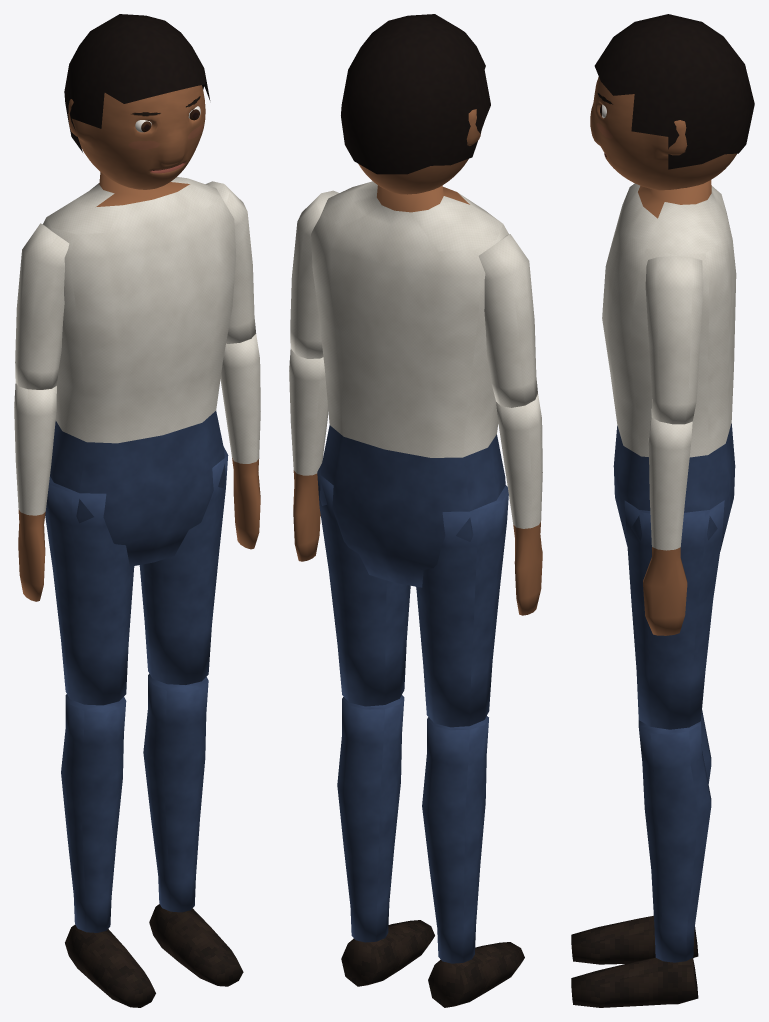
The model's file is persona_nino_a.obj.
3 renders of one model, left to right at view 1: azimuth 30°, elevation 25°; view 2: azimuth 150°, elevation 25°; view 3: azimuth 270°, elevation 25°, orthographic. The views are drawn at different scales.
Visible parts, largest first — view 1: Torso, PiernaIzq, PiernaDer, MusloDer, MusloIzq, Pelo, Cabeza, BrazoDer, AntebrazoDer, AntebrazoIzq, BrazoIzq; view 2: Torso, Pelo, PiernaDer, PiernaIzq, MusloDer, MusloIzq, BrazoDer, AntebrazoDer, AntebrazoIzq, BrazoIzq, Cabeza; view 3: Torso, PiernaIzq, Pelo, MusloIzq, BrazoIzq, AntebrazoIzq, Cabeza, PiernaDer.
Boxes of the visible parts, <box> form: Torso: <box>43,172,236,566</box>; PiernaIzq: <box>143,673,243,986</box>; PiernaDer: <box>61,694,155,1007</box>; MusloDer: <box>45,476,134,705</box>; MusloIzq: <box>139,446,228,684</box>; Pelo: <box>64,14,210,152</box>; Cabeza: <box>68,85,205,189</box>; BrazoDer: <box>15,223,69,389</box>; AntebrazoDer: <box>14,383,56,601</box>; AntebrazoIzq: <box>220,334,260,549</box>; BrazoIzq: <box>205,181,256,343</box>; Torso: <box>311,181,508,587</box>; Pelo: <box>341,14,490,174</box>; PiernaDer: <box>422,716,524,1007</box>; PiernaIzq: <box>337,695,434,986</box>; MusloDer: <box>416,485,508,727</box>; MusloIzq: <box>317,464,410,706</box>; BrazoDer: <box>478,234,537,407</box>; AntebrazoDer: <box>496,394,542,615</box>; AntebrazoIzq: <box>289,349,328,561</box>; BrazoIzq: <box>290,190,339,358</box>; Cabeza: <box>358,109,481,194</box>; Torso: <box>602,180,736,551</box>; PiernaIzq: <box>571,720,711,1007</box>; Pelo: <box>594,14,754,169</box>; MusloIzq: <box>624,500,724,729</box>; BrazoIzq: <box>645,256,703,424</box>; AntebrazoIzq: <box>643,415,692,635</box>; Cabeza: <box>590,76,736,190</box>; PiernaDer: <box>571,710,711,964</box>.
Bounding box in the file's own units: 0.3194 × 1.2 × 0.2075.
Materials: 10 (10 with a texture image).
